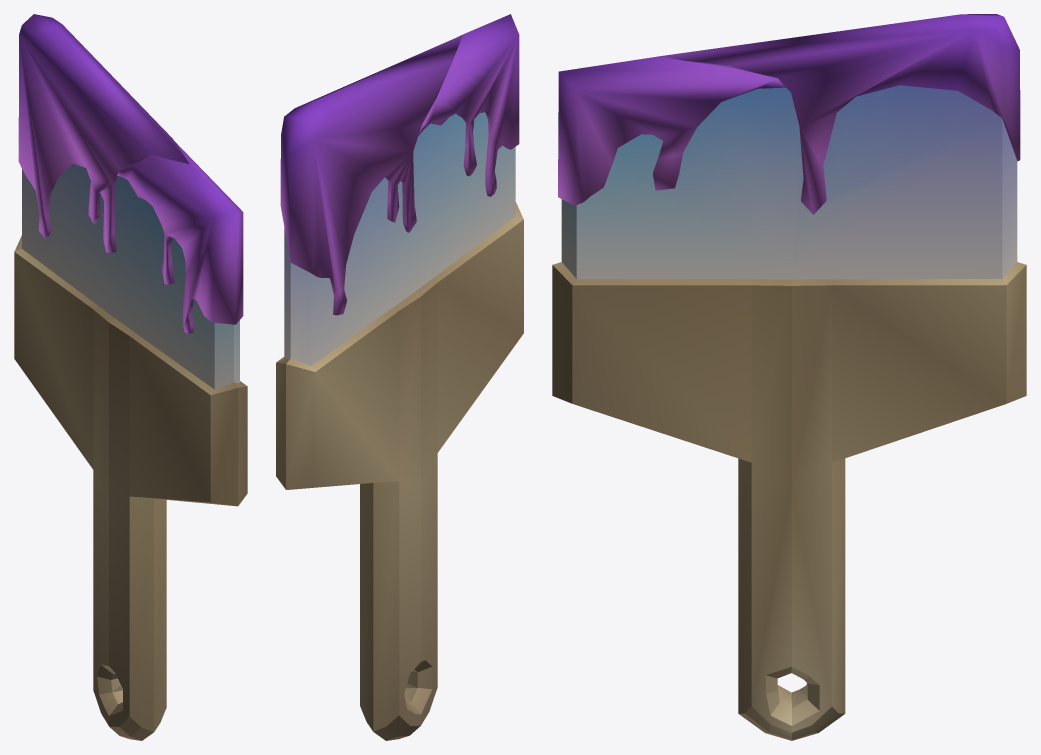
The model's file is Paint Brush Large.glb.
3 views of the same model, side by side, from view 1: azimuth 30°, elevation 25°; view 2: azimuth 150°, elevation 25°; view 3: azimuth 270°, elevation 25° (orthographic). The views are drawn at different scales.
Parts seen in each view (by area): view 1: Cube; view 2: Cube; view 3: Cube.
Part boxes in pixels (<box>): Cube: <box>14,14,247,740</box>; Cube: <box>276,14,523,740</box>; Cube: <box>552,14,1026,740</box>.
Bounding box in the file's own units: 0.4427 × 6.68 × 3.95.
